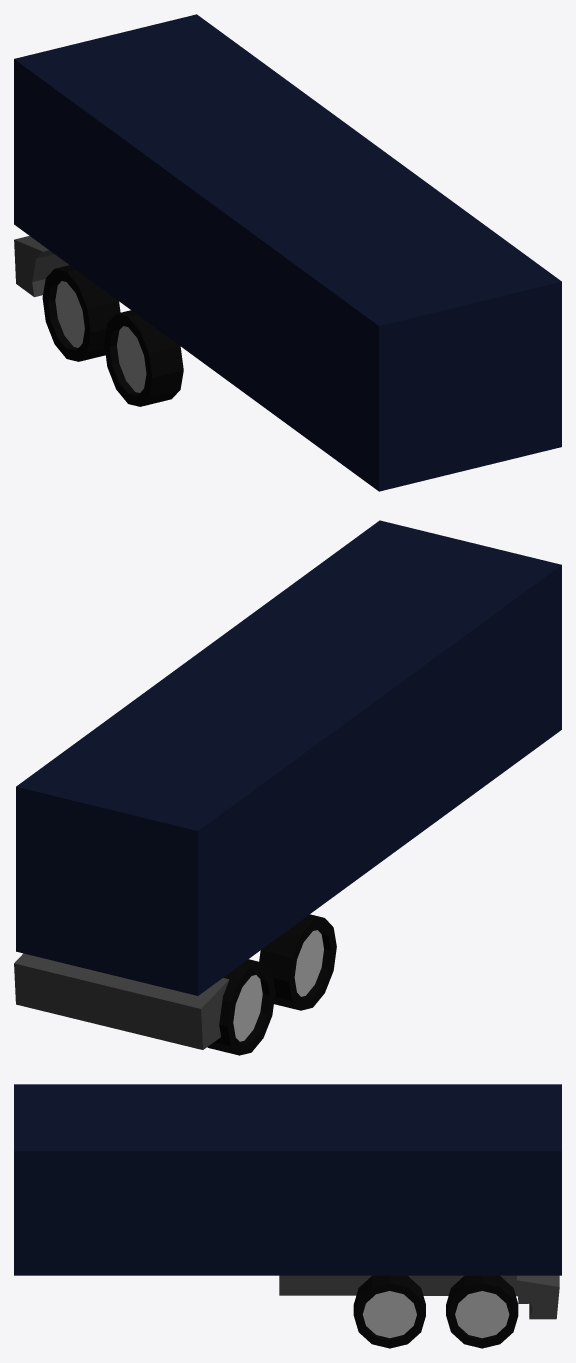
File: Back truck.fbx
The picture shows the model from 3 angles, top to bottom: view 1: azimuth 30°, elevation 25°; view 2: azimuth 150°, elevation 25°; view 3: azimuth 270°, elevation 25°; orthographic projection. The views are drawn at different scales.
Parts seen in each view (by area): view 1: Cube.002, Cylinder.003, Cylinder.004, Cube.001; view 2: Cube.002, Cube.001, Cylinder.003, Cylinder.004; view 3: Cube.002, Cube.001, Cylinder.004, Cylinder.003.
Part boxes in pixels (<box>): Cube.002: <box>14,14,561,491</box>; Cylinder.003: <box>104,310,183,406</box>; Cylinder.004: <box>42,265,120,361</box>; Cube.001: <box>14,236,69,297</box>; Cube.002: <box>16,520,561,995</box>; Cube.001: <box>14,953,229,1049</box>; Cylinder.003: <box>259,914,336,1010</box>; Cylinder.004: <box>207,959,275,1055</box>; Cube.002: <box>14,1084,561,1275</box>; Cube.001: <box>279,1275,559,1319</box>; Cylinder.004: <box>446,1275,518,1348</box>; Cylinder.003: <box>353,1275,425,1348</box>.
Bounding box in the file's own units: 908 × 3052 × 1204.
